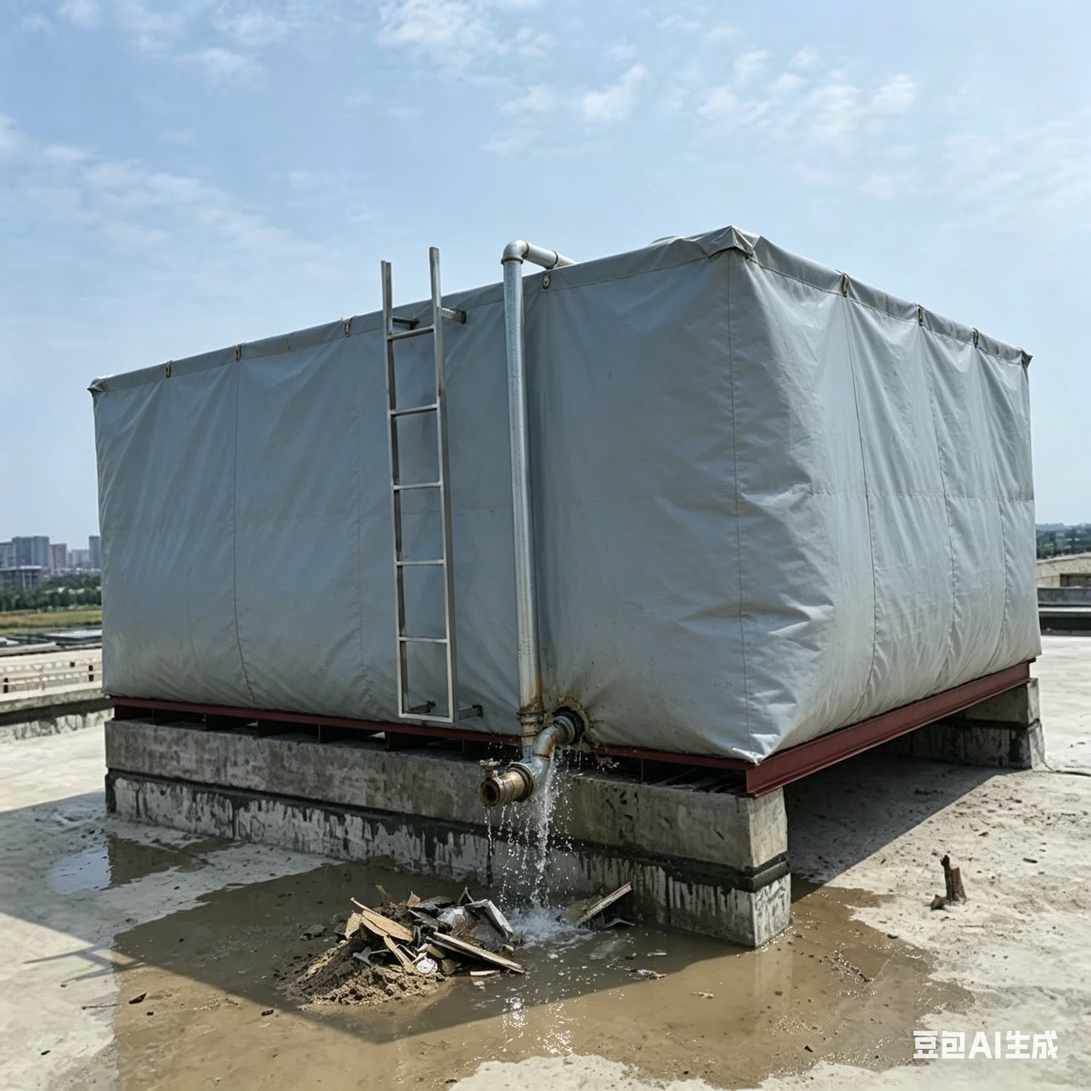Leakage: (606, 880, 949, 1083), (132, 929, 475, 1081), (487, 704, 588, 1049), (221, 856, 473, 927), (52, 824, 172, 888)
